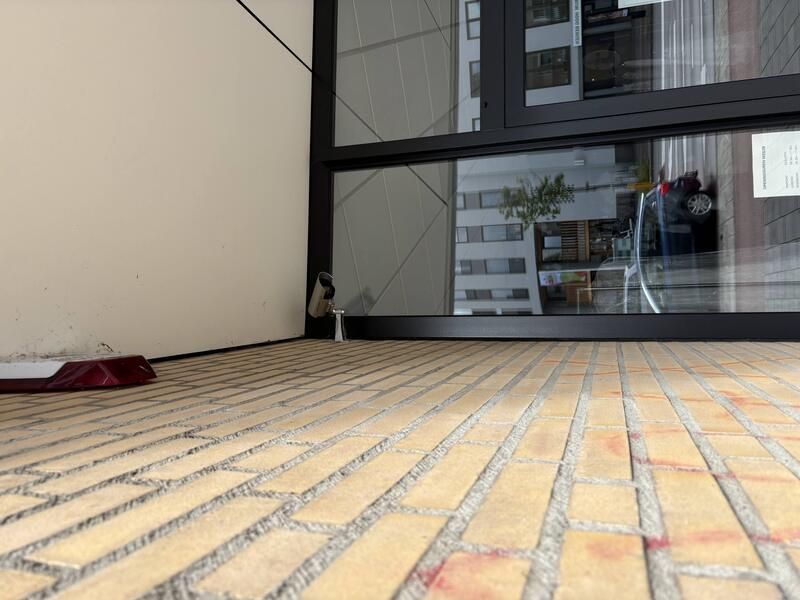bullet: (276, 295, 333, 338)
